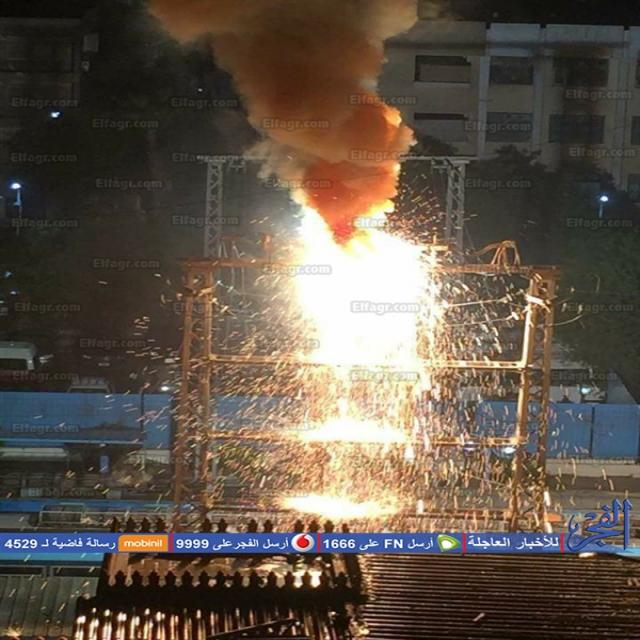Fire: (287, 212, 430, 454)
Smoke: (211, 21, 416, 234)
